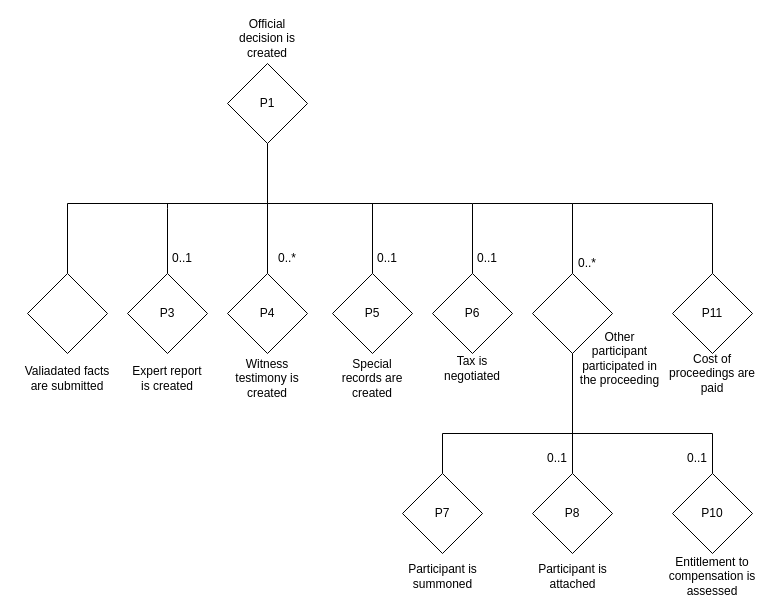
Image size: 779x615. Some labels were removed from this diagram. The centre of each missing label's shape, as x and y in pixels:
P2: point 67,313
P9: point 572,313
